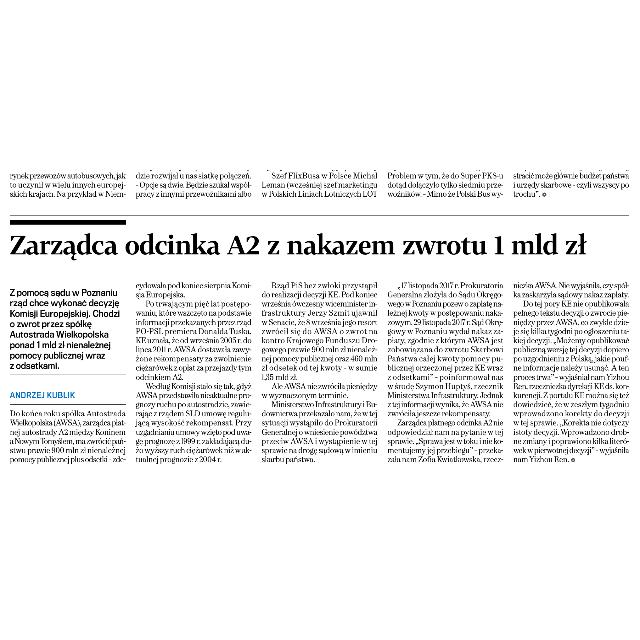author: (8, 387, 80, 403)
body: (382, 277, 506, 465), (511, 277, 635, 465), (260, 278, 380, 466), (134, 279, 253, 465), (8, 406, 128, 466)
lead: (7, 286, 123, 374)
title: (9, 228, 592, 264)
